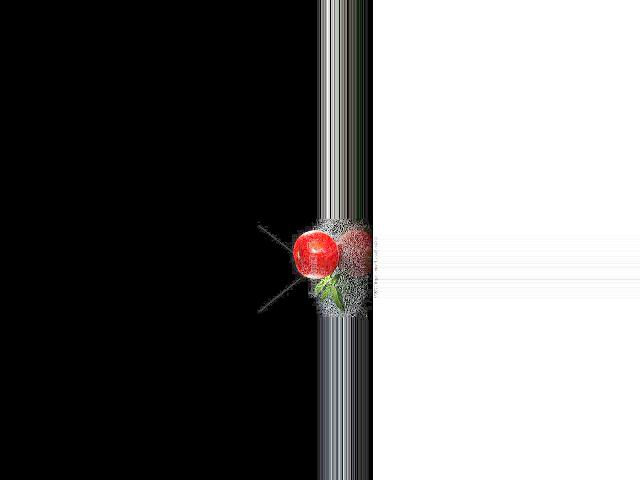tomato: (293, 230, 338, 279)
